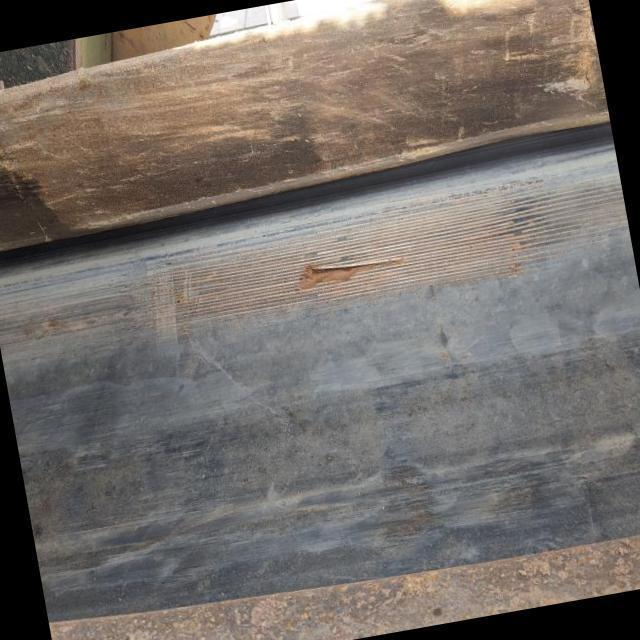Wear: (0, 167, 628, 359)
